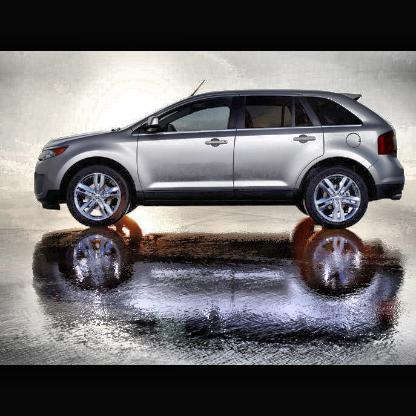Ford Edge SUV 2012: (35, 80, 406, 228)
